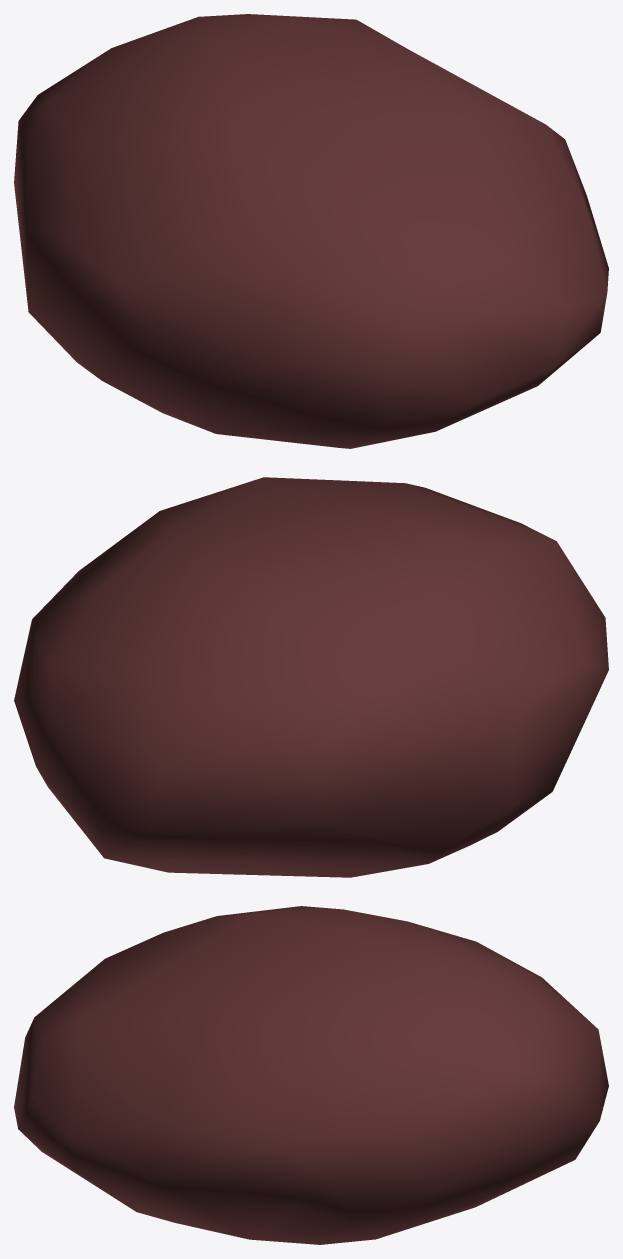
File: SM_rock_rounded_02.fbx
The picture shows the model from 3 angles, top to bottom: view 1: azimuth 30°, elevation 25°; view 2: azimuth 150°, elevation 25°; view 3: azimuth 270°, elevation 25°; orthographic projection. The views are drawn at different scales.
Visible parts, largest first — view 1: rock_rounded_02; view 2: rock_rounded_02; view 3: rock_rounded_02.
Part boxes in pixels (x1,y1,x2,y2): rock_rounded_02: (14,14,608,448); rock_rounded_02: (14,477,608,877); rock_rounded_02: (14,906,608,1244).
Bounding box in the file's own units: 76.88 × 46.9 × 96.17.
